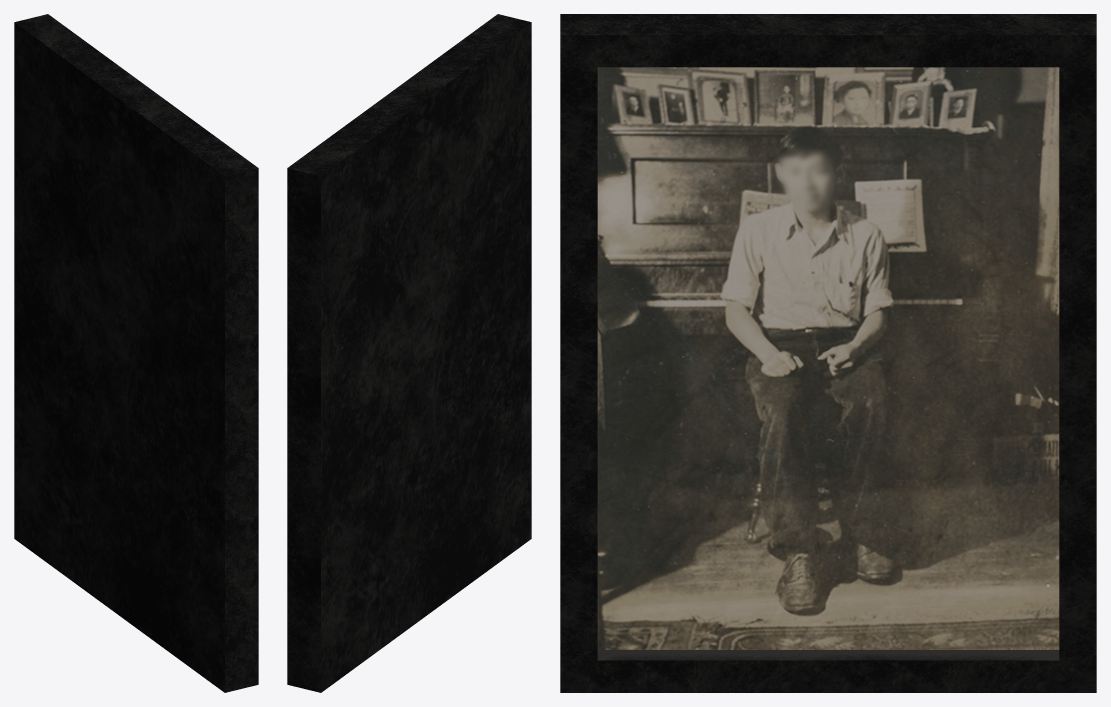
Rendered from frame3_1_piano david.FBX.
3 renders of one model, left to right at view 1: azimuth 30°, elevation 25°; view 2: azimuth 150°, elevation 25°; view 3: azimuth 270°, elevation 25°, orthographic. The views are drawn at different scales.
Parts seen in each view (by area): view 1: wall frame005; view 2: wall frame005; view 3: wall frame005.
Boxes of the visible parts, bbox=[...] form: wall frame005: bbox=[14, 14, 258, 692]; wall frame005: bbox=[287, 14, 531, 692]; wall frame005: bbox=[560, 14, 1096, 692].
Size of the model in its own units: 1.03 by 15.02 by 11.1.
1 material, 1 textured.
